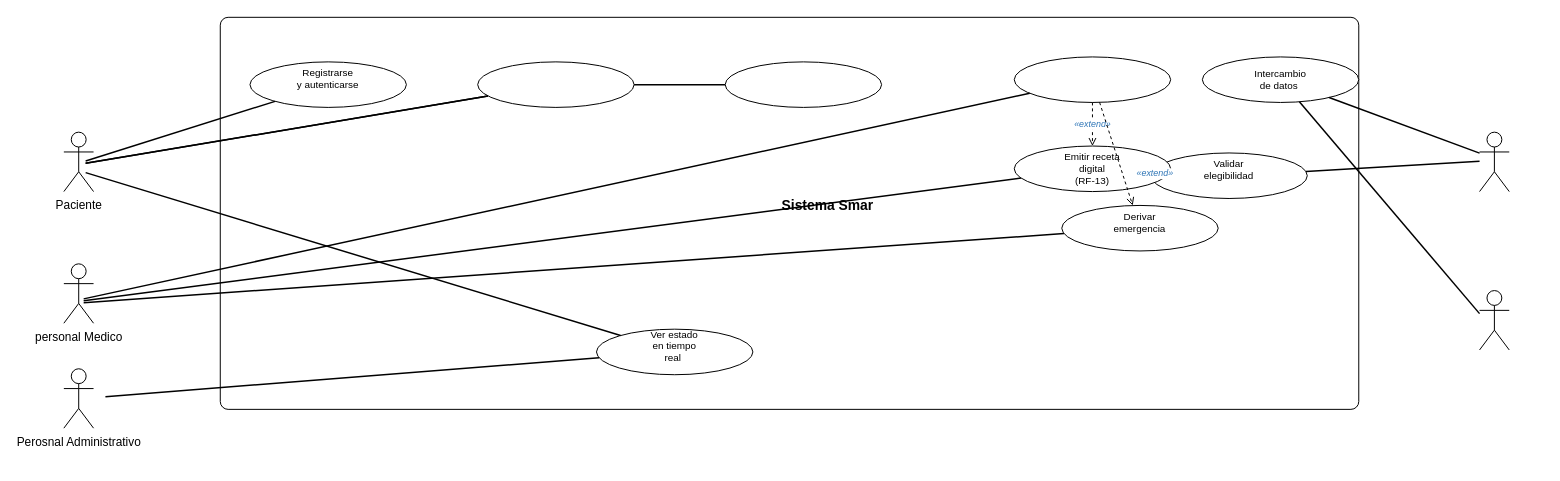
Some shapes in this 1560 by 481 pixel diagram are drawn without their labels. The centre of each missing label's shape, as x and y in pixels:
"Consoricio Medico" belongs at [1494,320].
"Enviar solicitud" belongs at [555,84].
"Monitoreo IoT continuo (RF-09)" belongs at [803,84].
"MSP" belongs at [1494,161].
"Teleconsulta con IA (RF-12)" belongs at [1092,79].
